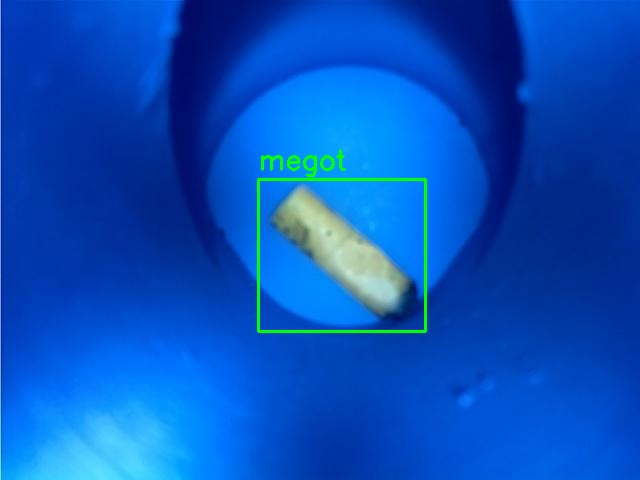megot: (258, 179, 425, 331)
